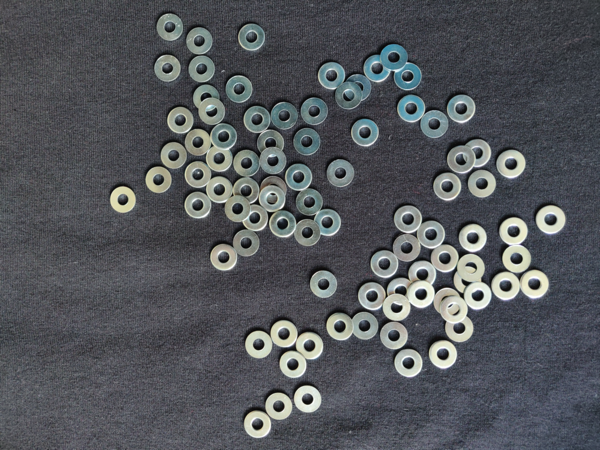circle: (445, 92, 480, 123), (535, 205, 569, 236), (155, 13, 187, 44), (502, 243, 534, 274), (420, 109, 451, 140), (467, 170, 499, 200), (301, 96, 331, 127), (497, 149, 527, 180), (393, 349, 423, 380), (325, 159, 357, 188), (309, 269, 339, 299), (293, 384, 323, 414), (237, 22, 268, 51), (224, 74, 255, 103), (499, 217, 530, 246), (244, 330, 275, 359), (108, 184, 137, 214), (257, 129, 287, 158), (369, 249, 399, 278), (387, 277, 417, 306), (357, 282, 387, 311), (464, 282, 493, 312), (382, 294, 412, 323), (379, 322, 409, 351), (364, 52, 392, 83), (446, 145, 477, 173), (409, 261, 440, 289), (270, 317, 298, 348), (264, 391, 292, 422), (277, 351, 309, 378), (160, 140, 189, 169), (296, 189, 325, 218), (317, 61, 346, 90), (397, 94, 426, 123), (394, 205, 423, 234), (521, 270, 550, 299), (351, 312, 380, 341), (243, 411, 272, 440), (192, 82, 222, 110), (270, 100, 298, 130), (234, 149, 262, 179), (293, 129, 323, 157), (350, 118, 380, 146), (432, 173, 462, 201), (457, 254, 487, 282), (260, 175, 291, 202), (231, 230, 262, 257), (452, 267, 484, 293), (185, 26, 214, 54), (381, 42, 410, 70), (394, 62, 422, 91), (418, 220, 447, 248), (459, 223, 488, 251), (394, 234, 423, 262), (431, 245, 459, 274), (430, 341, 458, 370), (327, 313, 355, 342), (145, 165, 172, 195), (294, 219, 321, 249), (491, 273, 521, 300), (295, 333, 325, 360), (154, 55, 182, 83), (185, 129, 213, 157), (269, 210, 297, 238), (211, 243, 239, 271), (336, 82, 364, 110), (345, 73, 373, 101), (259, 148, 288, 175), (446, 316, 475, 343), (187, 55, 217, 81), (166, 106, 194, 133), (243, 105, 270, 133), (232, 178, 260, 205), (285, 164, 313, 191), (464, 137, 492, 164), (436, 288, 462, 317), (441, 298, 470, 324), (210, 124, 240, 149), (259, 185, 286, 212), (409, 283, 436, 310), (199, 99, 227, 125), (205, 177, 233, 203), (184, 192, 211, 218), (316, 209, 343, 235), (184, 162, 212, 187), (224, 197, 252, 222), (242, 205, 268, 231), (207, 146, 231, 173)
